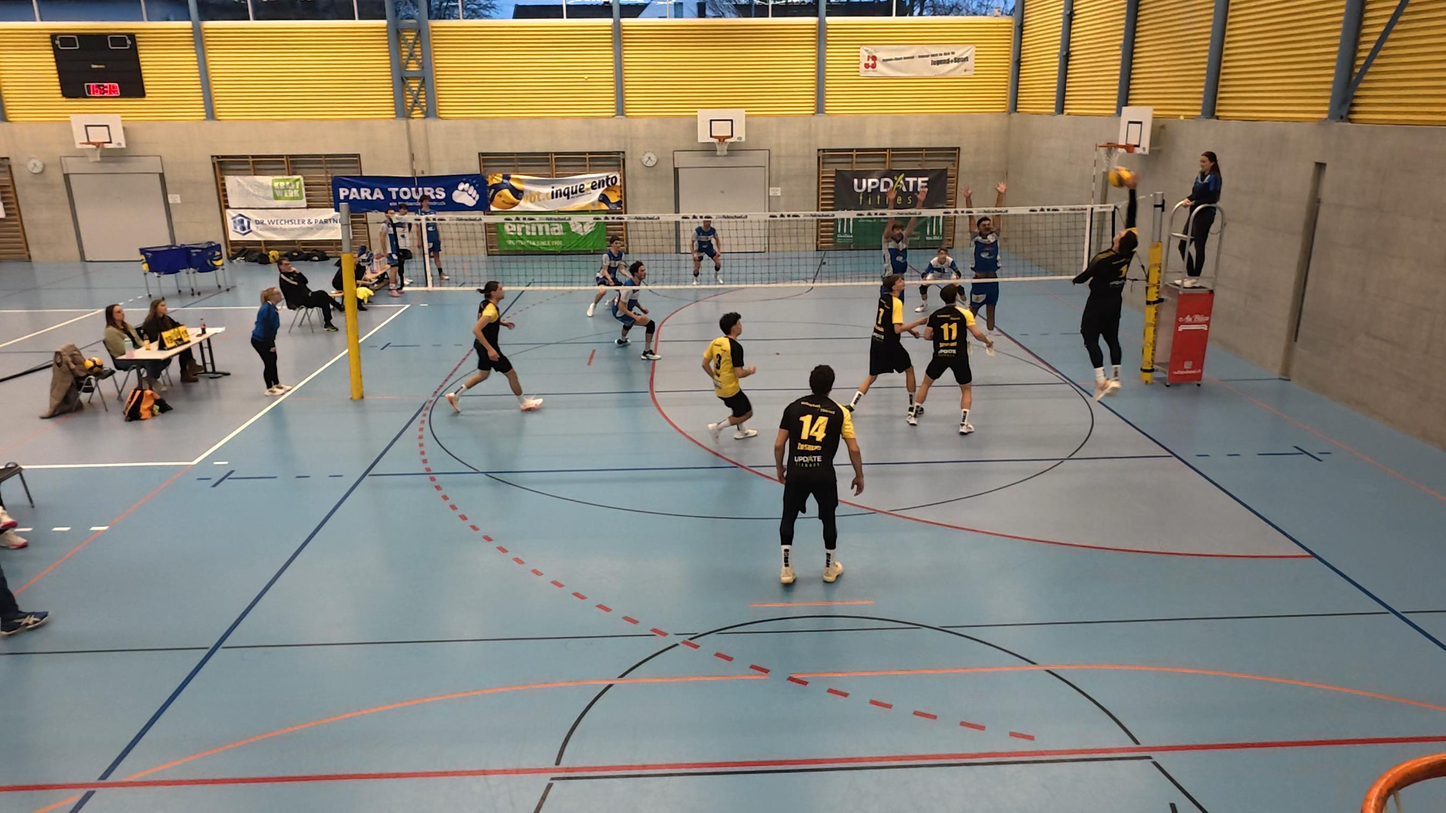Attack: (1062, 211, 1149, 405)
Block: (963, 178, 1013, 348), (883, 184, 931, 289)
Player: (772, 365, 864, 586), (442, 281, 541, 411), (908, 288, 988, 437), (851, 273, 918, 411), (703, 311, 761, 441), (612, 251, 662, 356), (586, 234, 625, 318), (918, 246, 962, 313), (689, 213, 722, 286)
ball: (1108, 167, 1135, 185)
